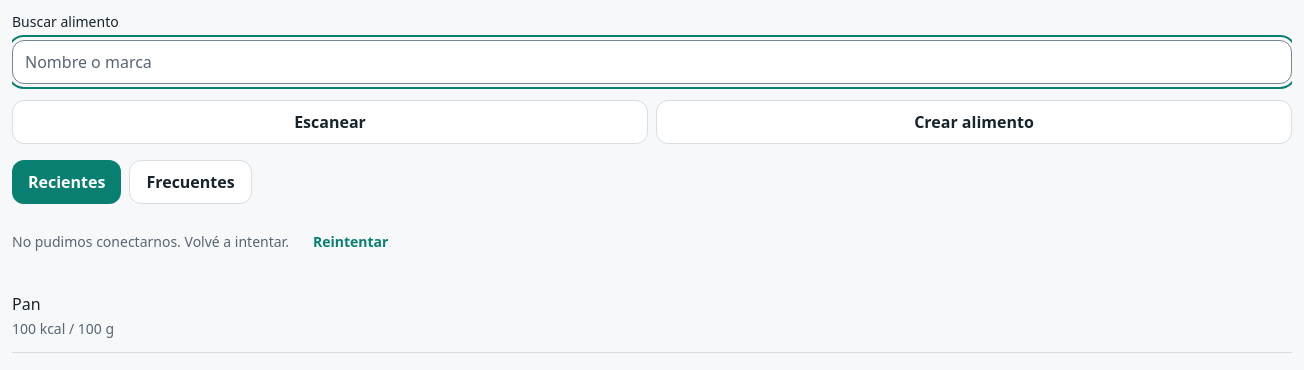
Test: conserva datos de recent tras error de recarga y permite reintentar
The width and height of the screenshot is (1304, 370).
Expected: the message "No pudimos conectarnos. Volvé a intentar. Reintentar" is shown, x1=12 y1=220 x2=404 y2=264
Expected: the text "Pan" is shown, x1=12 y1=293 x2=40 y2=315
Click the button "Reintentar".
click(351, 242)  # box x1=297 y1=220 x2=404 y2=264
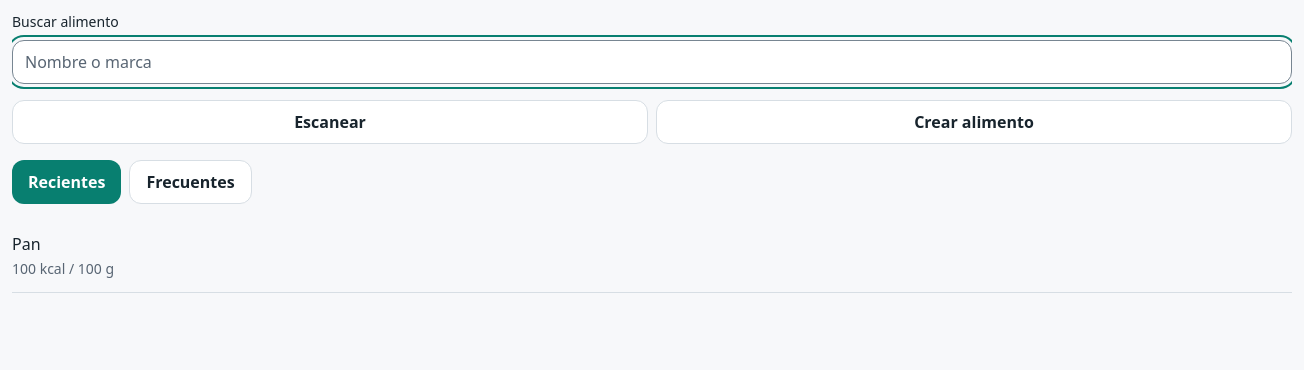
Expected: the text "Pan" is shown, x1=12 y1=233 x2=40 y2=255
Expected: the message "No pudimos conectarnos. Volvé a intentar. Reintentar" is gone
